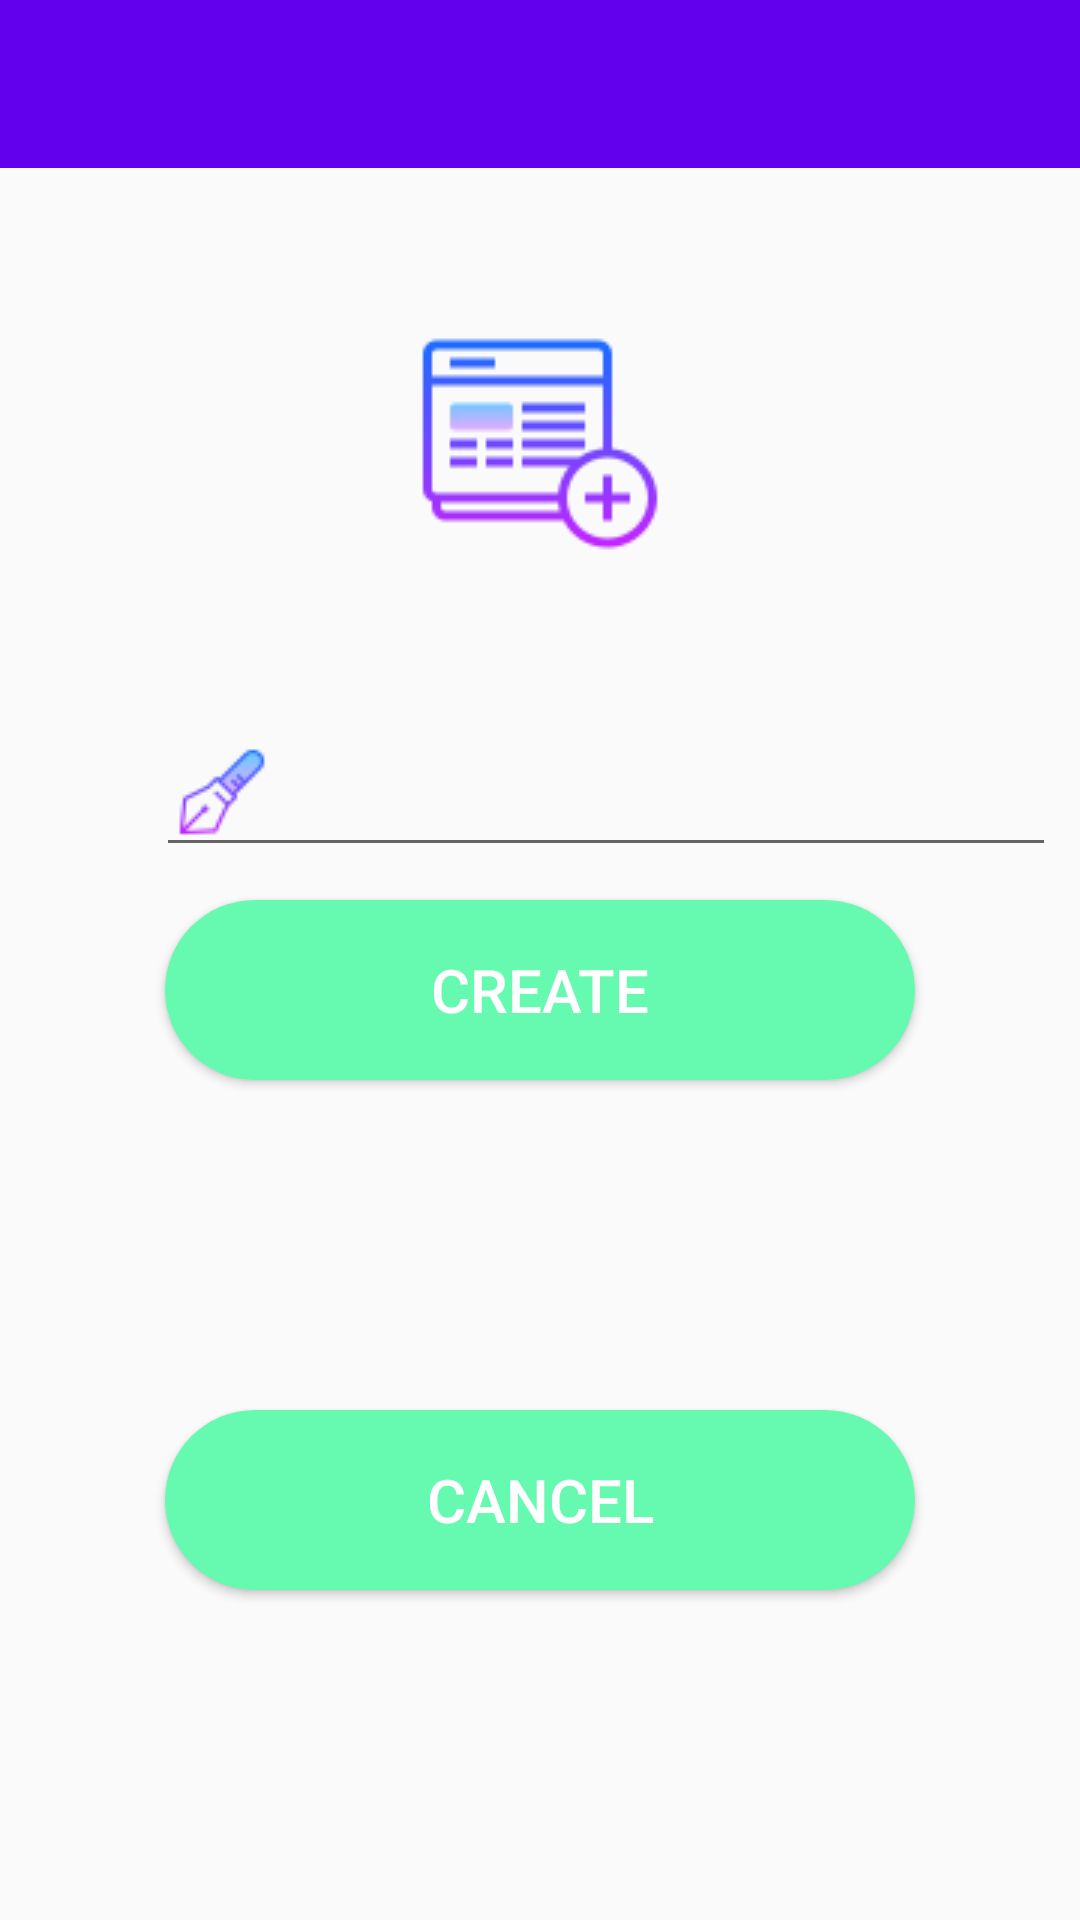

Icons on this 1080 × 1920 Android screen, each with the point to tap as (x=x, y=y):
add property: (x=540, y=444)
